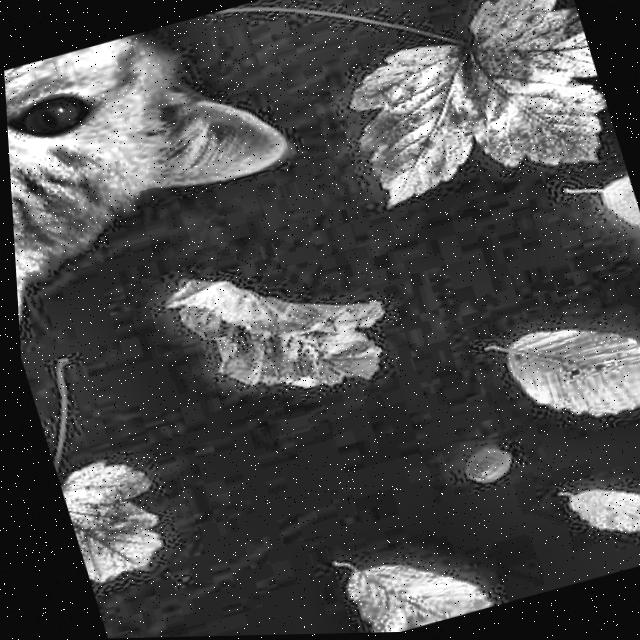cat: (0, 0, 591, 418)
